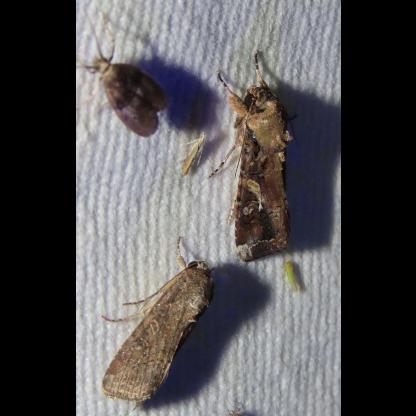Fall Armyworm Moth: (97, 234, 217, 416), (205, 47, 305, 265), (75, 8, 173, 140), (170, 130, 209, 178)
